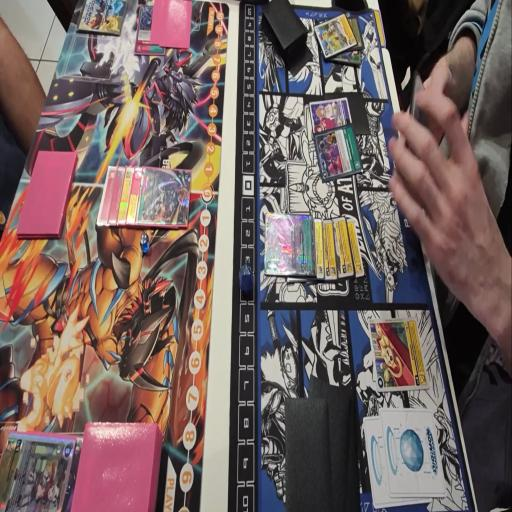card: (0, 431, 77, 512), (366, 315, 431, 396), (262, 210, 316, 281), (143, 164, 192, 230), (319, 120, 358, 188), (308, 97, 354, 140), (313, 15, 355, 60), (134, 4, 166, 60), (95, 162, 120, 228), (334, 212, 356, 278), (116, 164, 138, 227), (108, 164, 128, 226), (323, 218, 339, 284), (346, 219, 364, 276), (126, 164, 140, 230), (314, 217, 326, 283), (346, 8, 362, 49)
